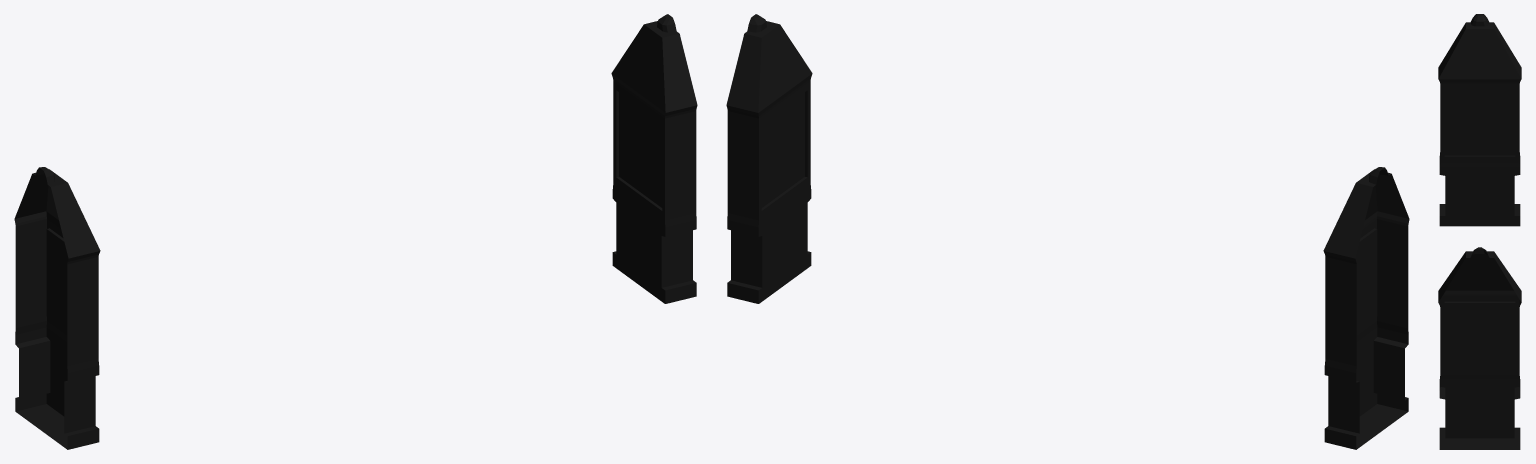
Rendered from graveyard_gate.glb.
3 renders of one model, left to right at view 1: azimuth 30°, elevation 25°; view 2: azimuth 150°, elevation 25°; view 3: azimuth 270°, elevation 25°, orthographic. The views are drawn at different scales.
Visible parts, largest first — view 1: GraveyardFenceGate; view 2: GraveyardFenceGate; view 3: GraveyardFenceGate.
Boxes of the visible parts, x1,y1,x2,y2 form: GraveyardFenceGate: (14, 14, 697, 449); GraveyardFenceGate: (726, 14, 1409, 449); GraveyardFenceGate: (1438, 14, 1521, 449).
Bounding box in the file's own units: 3.46 × 1.38 × 0.5166.
1 material, 1 textured.
